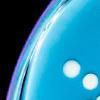white: (60, 57, 82, 80), (81, 70, 100, 92), (92, 93, 100, 100)
